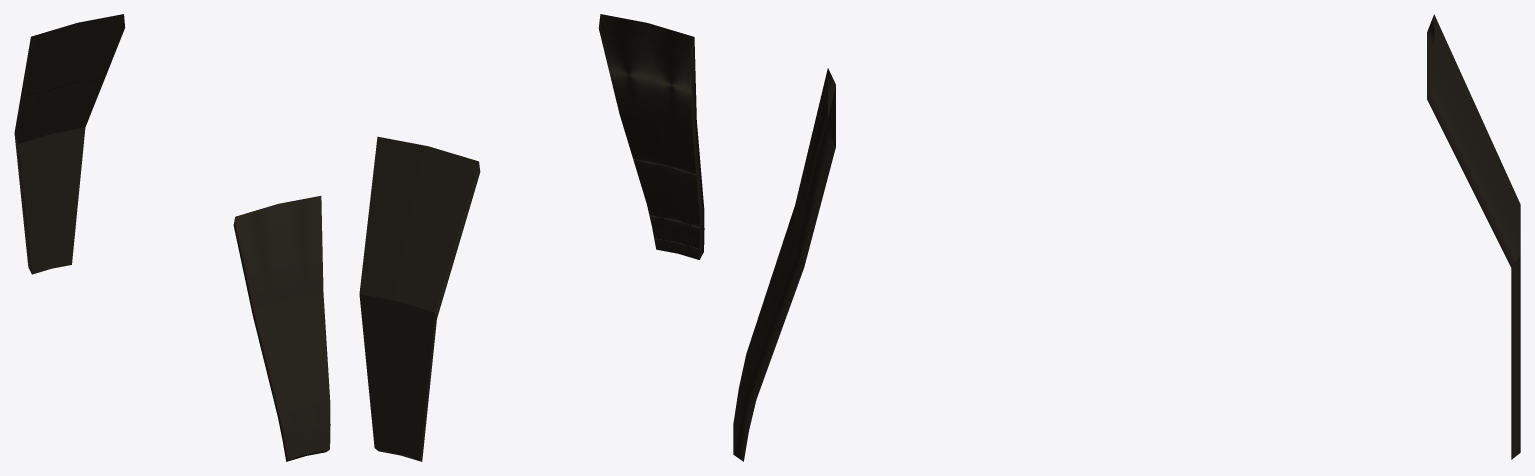
Rendered from Secondary Pin Marker.fbx.
3 views of the same model, side by side, from view 1: azimuth 30°, elevation 25°; view 2: azimuth 150°, elevation 25°; view 3: azimuth 270°, elevation 25° (orthographic). The views are drawn at different scales.
Visible parts, largest first — view 1: pCylinder26; view 2: pCylinder26; view 3: pCylinder26.
Part boxes in pixels (x1,y1,x2,y2): pCylinder26: (14,14,330,461); pCylinder26: (359,14,704,461); pCylinder26: (733,14,1520,461).
Bounding box in the file's own units: 0.2146 × 0.5885 × 1.04.
1 material, 1 textured.
